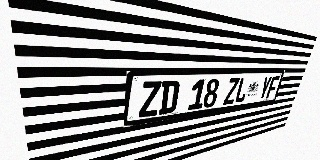1: (188, 79, 207, 110)
8: (202, 79, 221, 108)
D: (158, 80, 180, 115)
F: (266, 76, 280, 98)
L: (234, 77, 250, 103)
Y: (258, 76, 272, 100)
Z: (139, 81, 162, 118), (223, 78, 240, 105)
